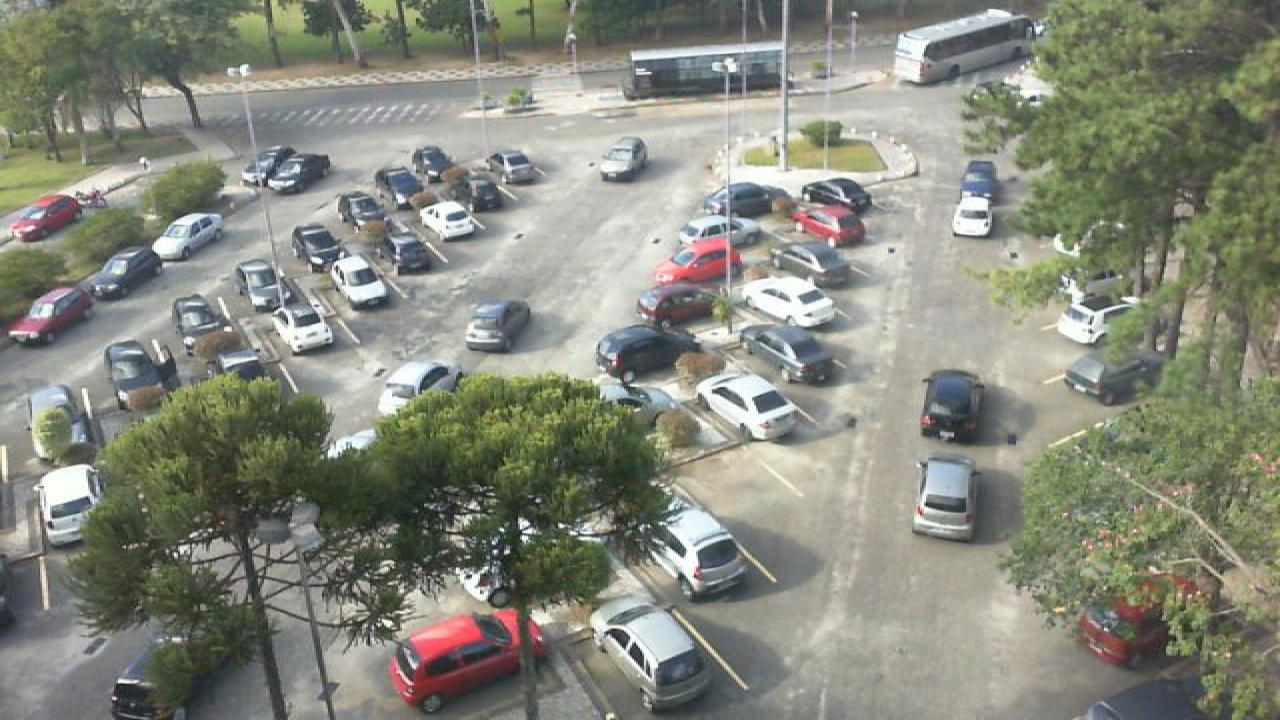Car: (386, 606, 546, 714), (586, 595, 712, 713), (108, 625, 248, 720), (634, 494, 744, 602), (1070, 583, 1170, 669), (696, 372, 798, 441), (910, 454, 980, 542), (740, 323, 836, 385), (594, 323, 702, 377), (1062, 346, 1158, 406), (36, 463, 104, 544), (738, 276, 838, 328), (8, 286, 96, 345), (376, 360, 464, 416), (918, 368, 982, 443), (1054, 290, 1138, 346), (650, 236, 744, 286), (764, 237, 852, 287), (88, 246, 162, 300), (592, 374, 682, 418), (28, 402, 90, 465), (10, 192, 84, 243), (102, 341, 166, 398), (152, 211, 226, 260), (464, 299, 532, 352), (330, 252, 392, 309), (632, 281, 716, 323), (272, 300, 334, 356), (172, 295, 232, 350), (702, 182, 792, 217), (674, 214, 760, 250), (792, 205, 866, 246), (234, 259, 290, 307), (420, 200, 484, 241), (800, 178, 872, 214), (380, 228, 438, 272), (270, 154, 332, 195), (292, 224, 346, 270), (242, 145, 300, 187), (598, 136, 650, 181), (216, 348, 274, 387), (950, 190, 994, 238), (488, 148, 544, 185), (374, 168, 424, 208), (464, 172, 514, 212), (338, 192, 388, 230), (958, 160, 1000, 201), (408, 145, 460, 178)
